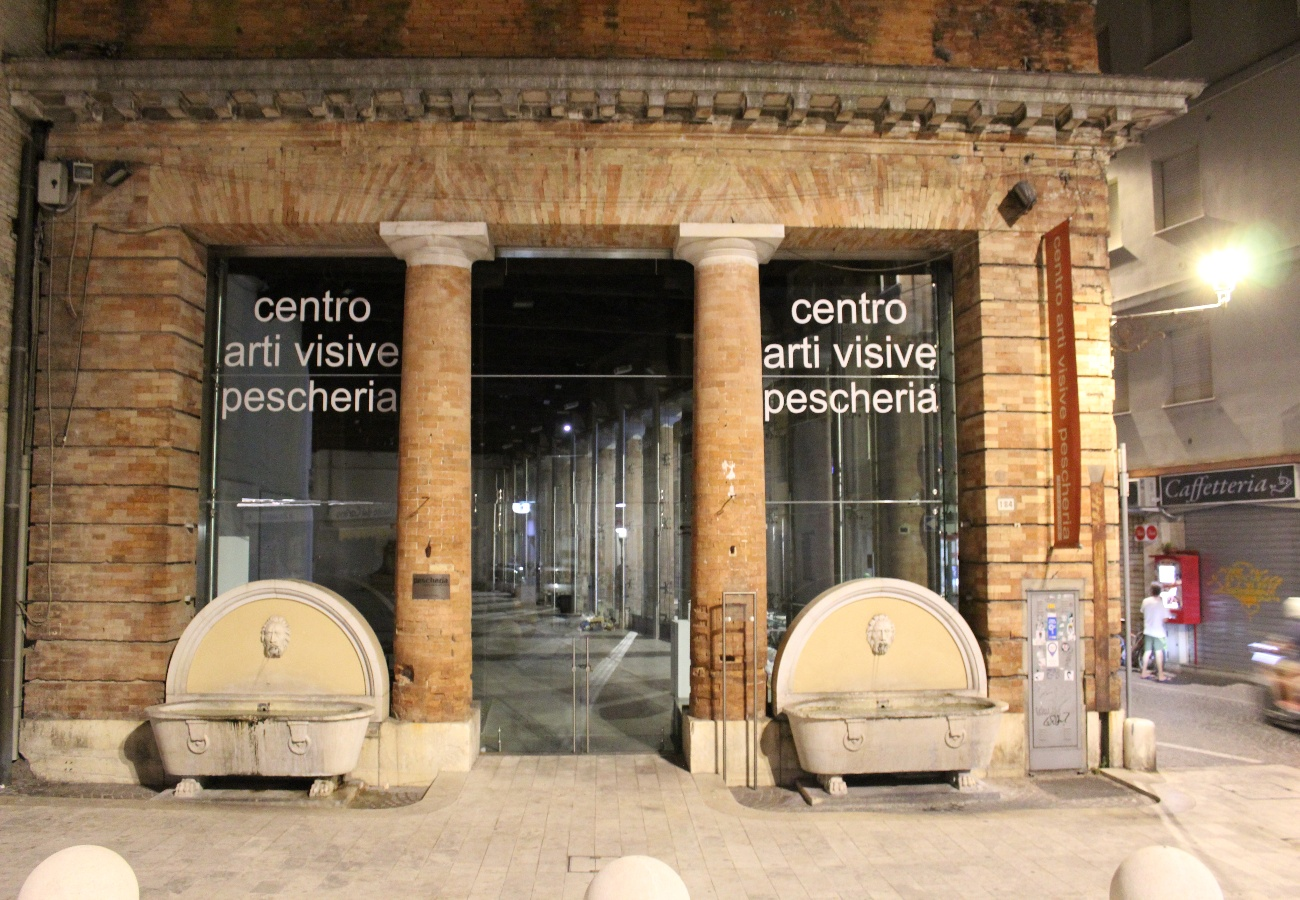Centro Arti Visive Pescheria: (1, 1, 1109, 811)
